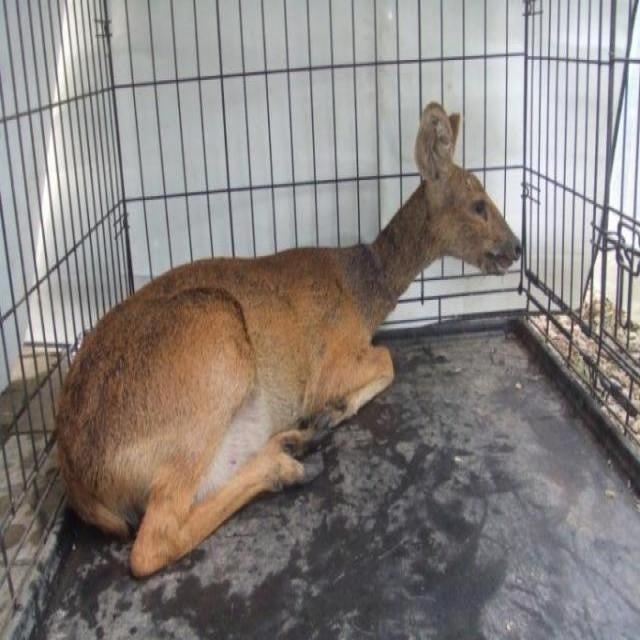deer: (54, 91, 532, 593)
